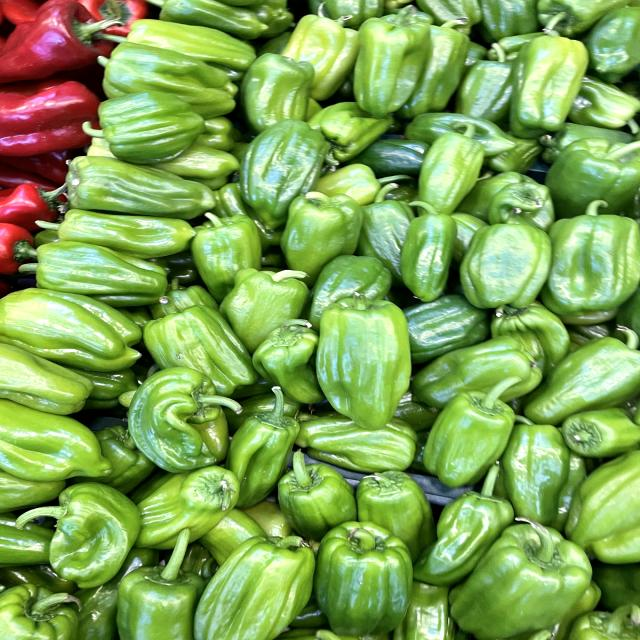bell pepper: (447, 517, 601, 640), (317, 287, 427, 433), (311, 513, 418, 640), (416, 376, 533, 489), (456, 208, 561, 330), (496, 29, 604, 146), (340, 8, 447, 124), (57, 152, 215, 219), (276, 182, 372, 287), (75, 88, 208, 163)
